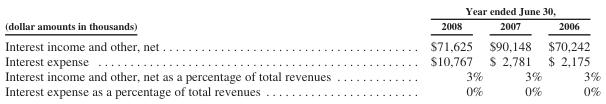table: (4, 4, 600, 98)
table column: (4, 4, 380, 98), (380, 4, 485, 98), (485, 4, 544, 98), (544, 4, 600, 98)
table column header: (4, 4, 600, 34)
table row: (4, 34, 600, 52), (4, 17, 600, 34), (4, 52, 600, 68), (4, 68, 600, 83), (4, 83, 600, 98), (4, 4, 600, 17)
table spanning cell: (4, 4, 380, 34), (380, 4, 600, 17)
